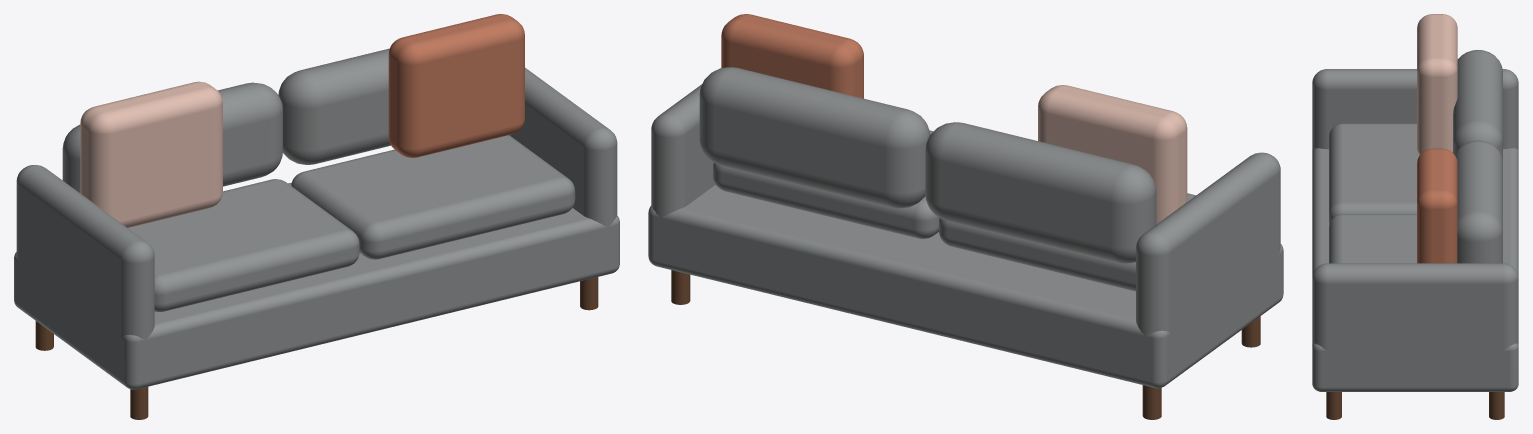
The model's file is Sofa_01.gltf.
The picture shows the model from 3 angles, left to right: view 1: azimuth 30°, elevation 25°; view 2: azimuth 150°, elevation 25°; view 3: azimuth 270°, elevation 25°; orthographic projection. The views are drawn at different scales.
Visible parts, largest first — view 1: Sofa_01; view 2: Sofa_01; view 3: Sofa_01.
Boxes of the visible parts, x1,y1,x2,y2 form: Sofa_01: (14,14,619,419); Sofa_01: (648,14,1283,419); Sofa_01: (1312,14,1518,419).
Bounding box in the file's own units: 1.57 × 0.78 × 0.66.
